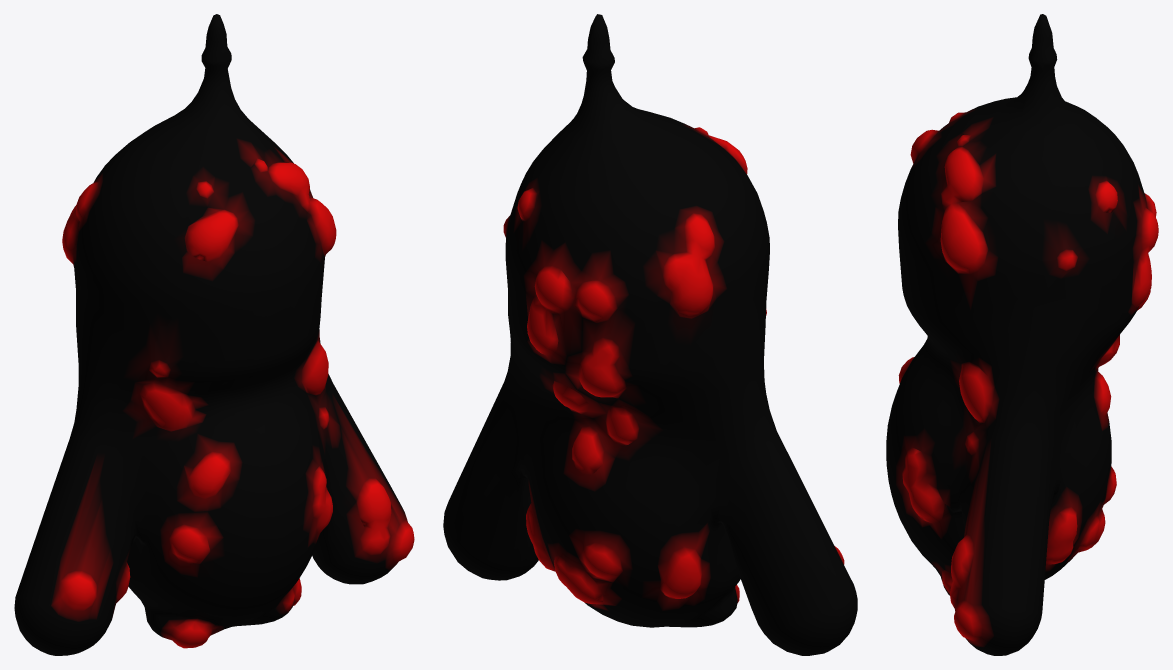
Rendered from body-lite.glb.
The picture shows the model from 3 angles, left to right: view 1: azimuth 30°, elevation 25°; view 2: azimuth 150°, elevation 25°; view 3: azimuth 270°, elevation 25°; orthographic projection. The views are drawn at different scales.
Visible parts, largest first — view 1: ariseSoulV3; view 2: ariseSoulV3; view 3: ariseSoulV3.
Boxes of the visible parts, x1,y1,x2,y2 form: ariseSoulV3: (14, 14, 414, 655); ariseSoulV3: (443, 14, 857, 655); ariseSoulV3: (886, 14, 1158, 655).
Size of the model in its own units: 1.45 by 2.11 by 0.8939.
